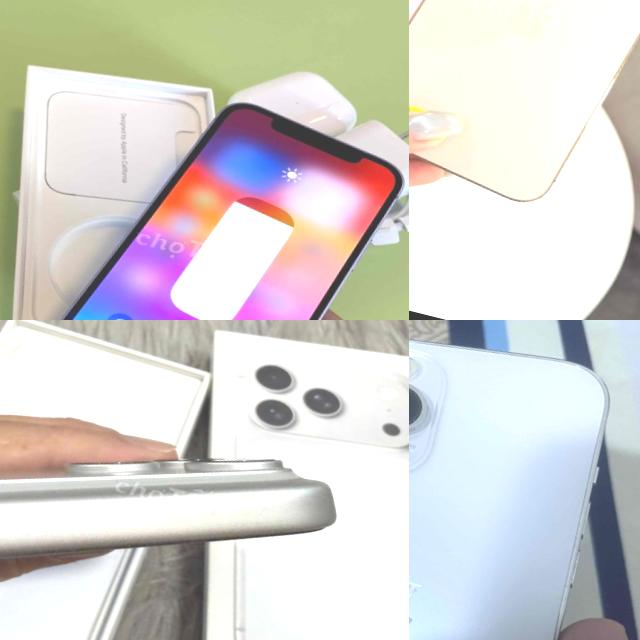gen_12_13: (31, 67, 409, 320), (409, 320, 640, 640), (409, 0, 640, 233)
gen_17: (0, 458, 335, 558), (0, 458, 334, 558)
